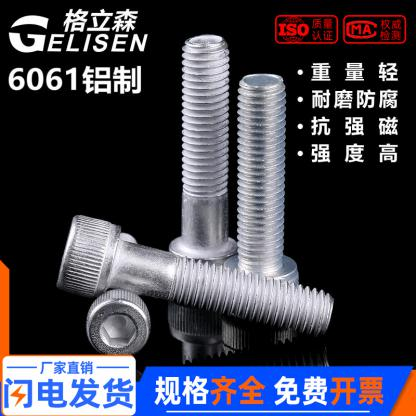FOD: (53, 212, 338, 340), (169, 31, 239, 303), (223, 70, 300, 308), (83, 289, 154, 358)
